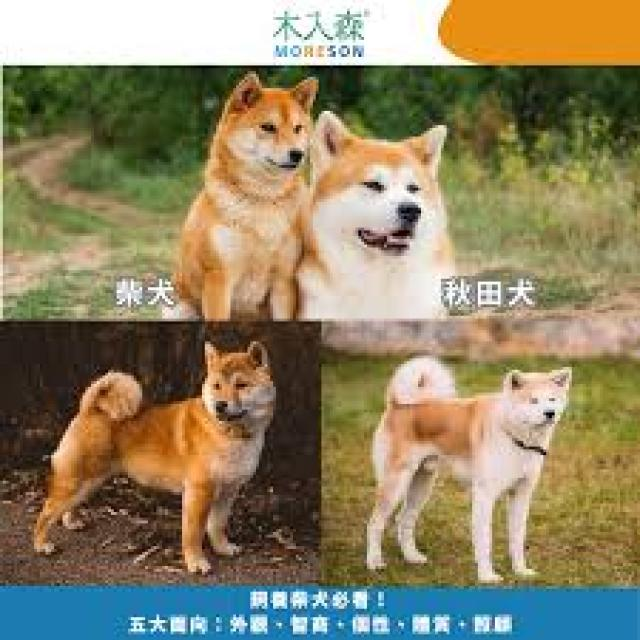dog: (38, 343, 278, 576), (171, 75, 310, 322)
